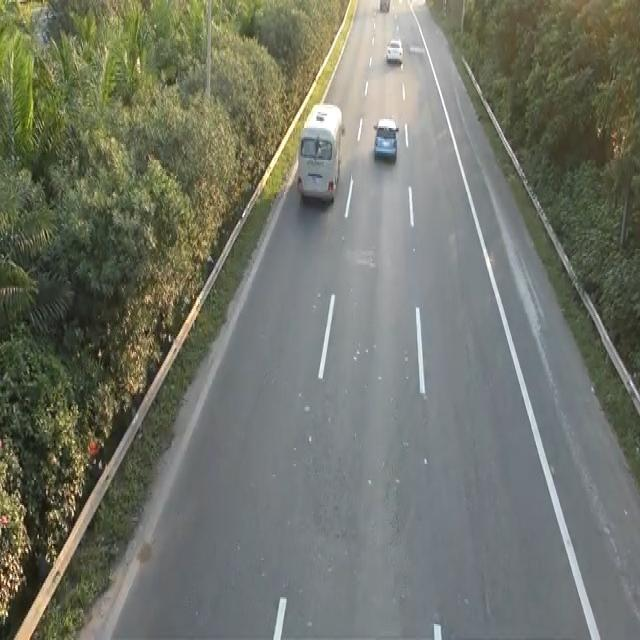bus: (372, 114, 399, 162)
jeep: (295, 100, 345, 206)
